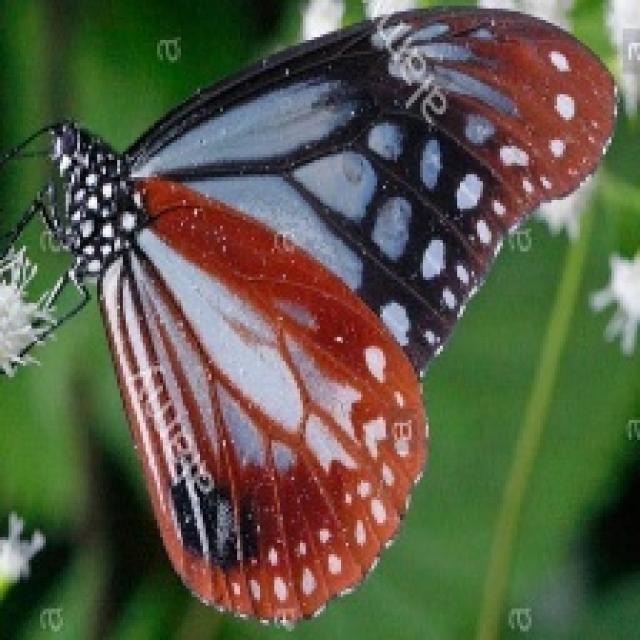butterfly: (0, 0, 620, 629)
